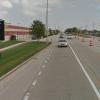Car: (54, 33, 75, 51)
